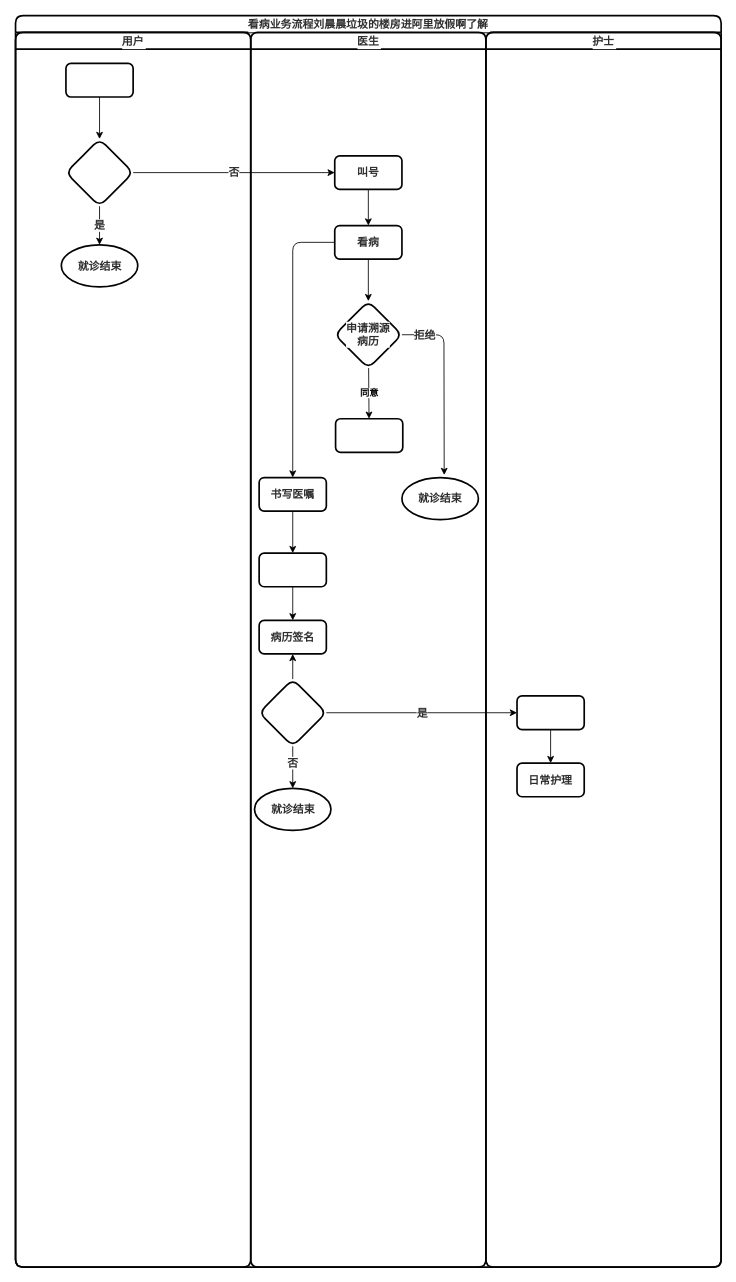
This 736x1282 diagram has some shape labels left out. Each missing label, with the centre of its shape:
"分配病房" goes at [550,712].
"是否住院" goes at [292,712].
"是否撤销 挂号" goes at [99,172].
"查看病历" goes at [368,435].
"病历加密" goes at [292,569].
"预约挂号" goes at [99,79].
